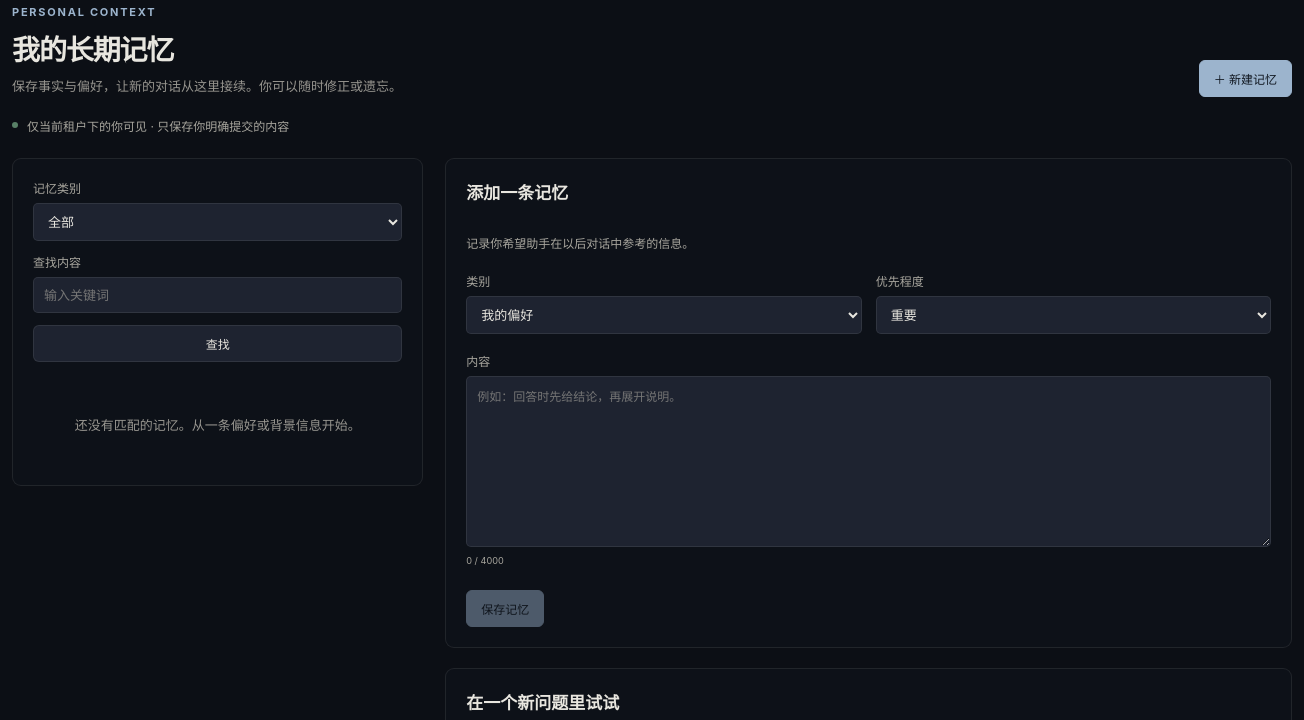
Test: personal memory workbench › creates explicit memory and edits it with the server version
Type "中文回答" into the text box named "记忆内容".
click(869, 462); type("中文回答")  # box [466, 376, 1271, 547]
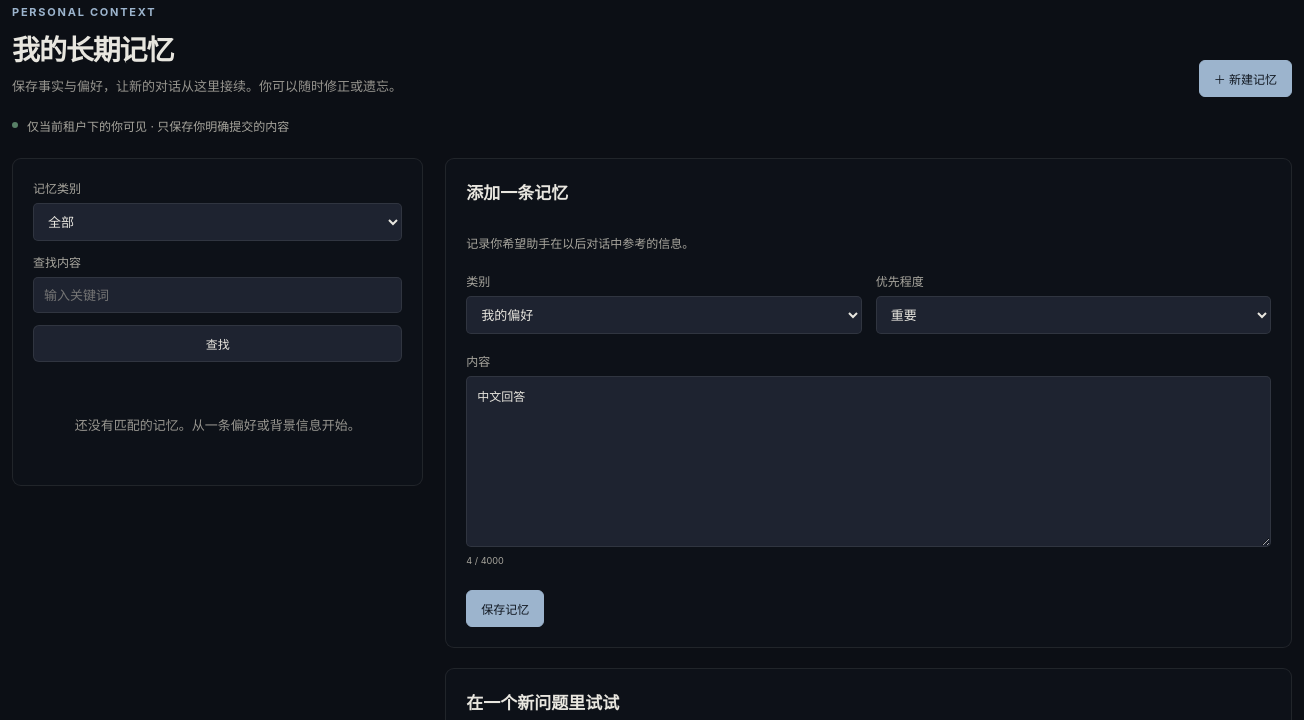
Submit the form named "编辑记忆", box [445, 158, 1292, 648]
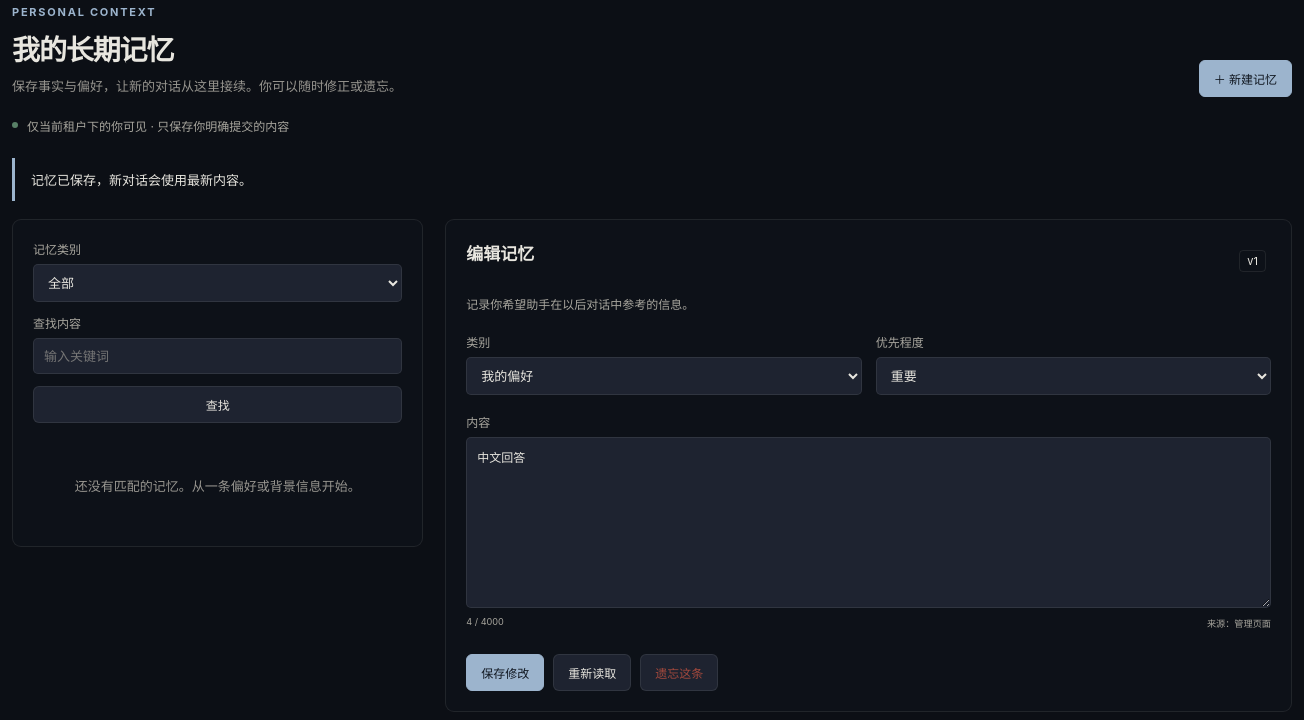
Expected: the message "记忆已保存，新对话会使用最新内容。" is shown, [12, 158, 1292, 201]
Replace the text in the text box named "记忆内容" with "英语回答" at (869, 523), box [466, 437, 1271, 608]
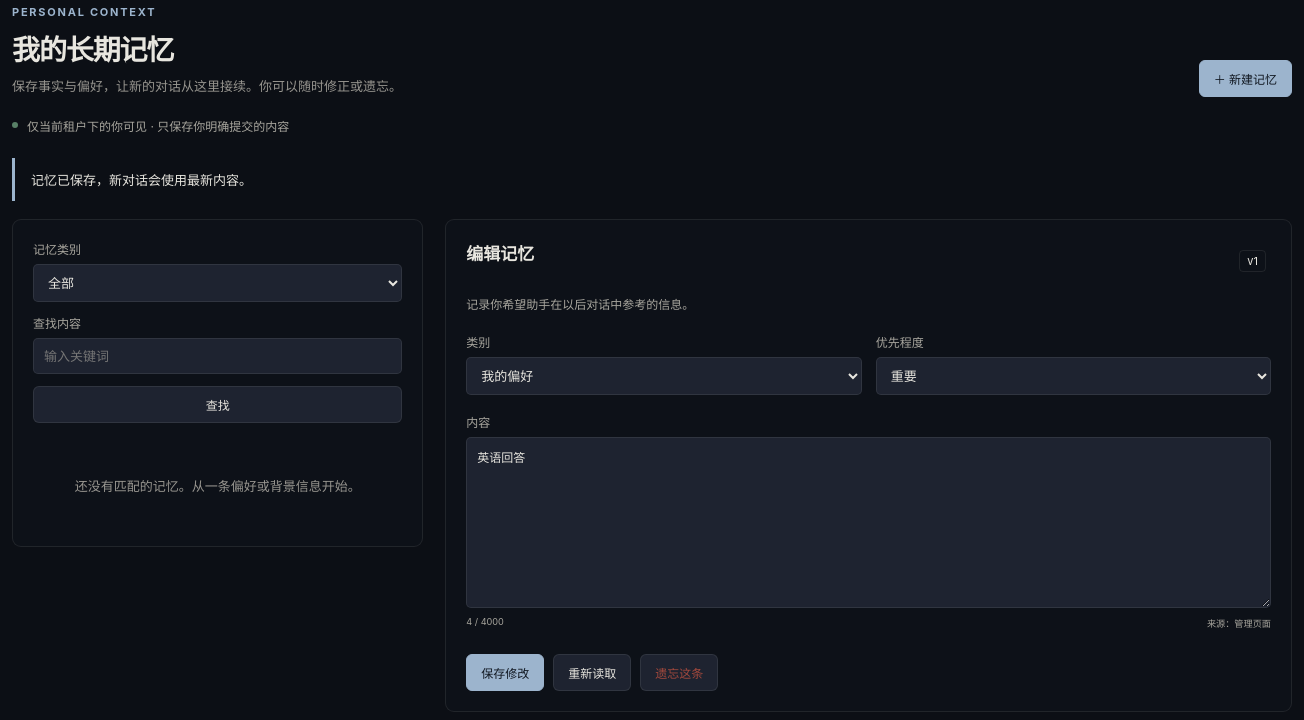
Submit the form named "编辑记忆", box [445, 219, 1292, 712]
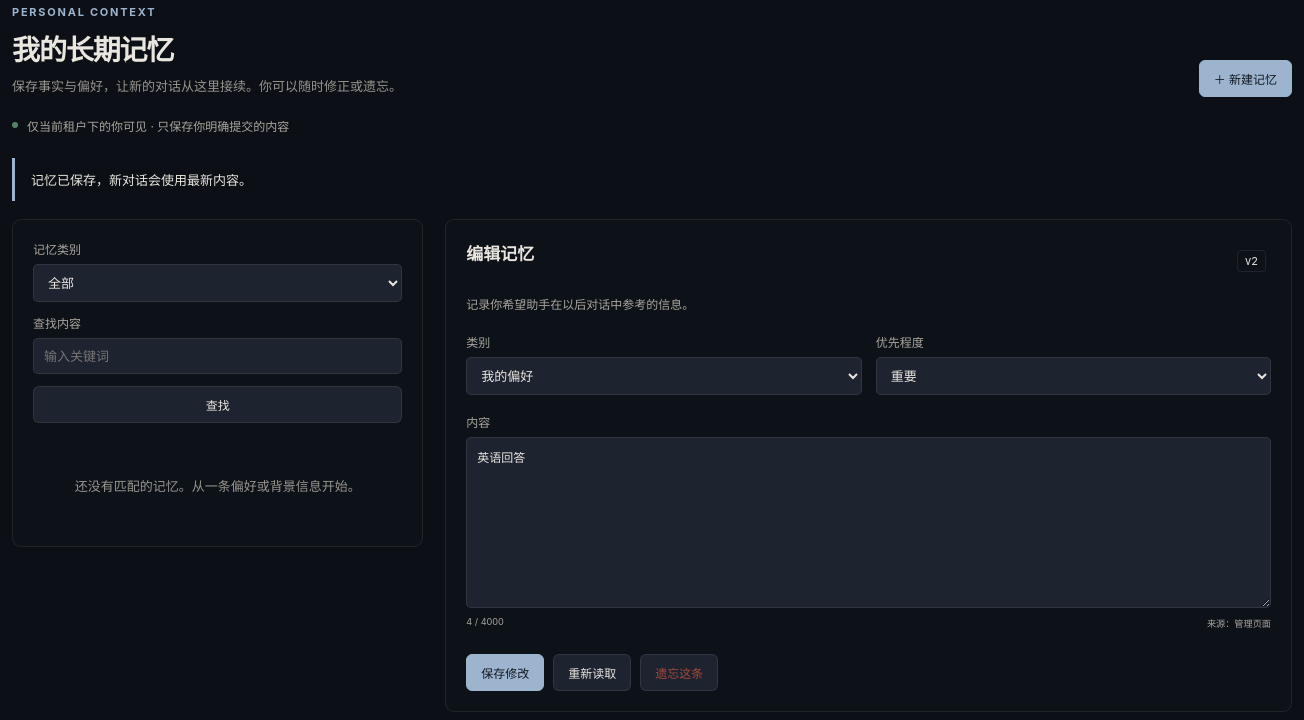
Expected: the text "v2" is shown, [1237, 250, 1266, 272]
